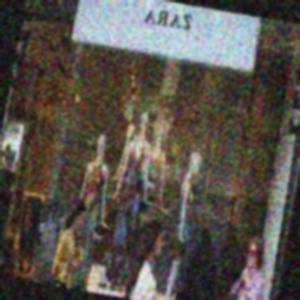zara: (125, 0, 266, 3)
